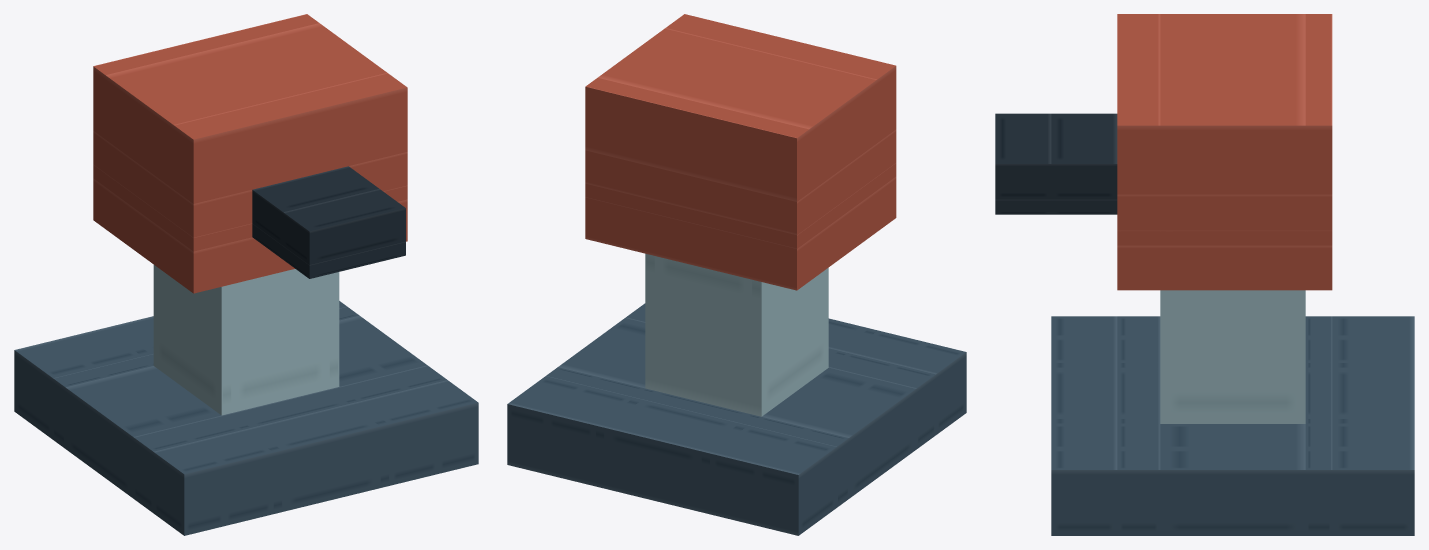
The model's file is sc_enemy_sentry.obj.
3 renders of one model, left to right at view 1: azimuth 30°, elevation 25°; view 2: azimuth 150°, elevation 25°; view 3: azimuth 270°, elevation 25°, orthographic. The views are drawn at different scales.
Size of the model in its own units: 11 by 13 by 12.7.
Materials: 1 (1 with a texture image).
